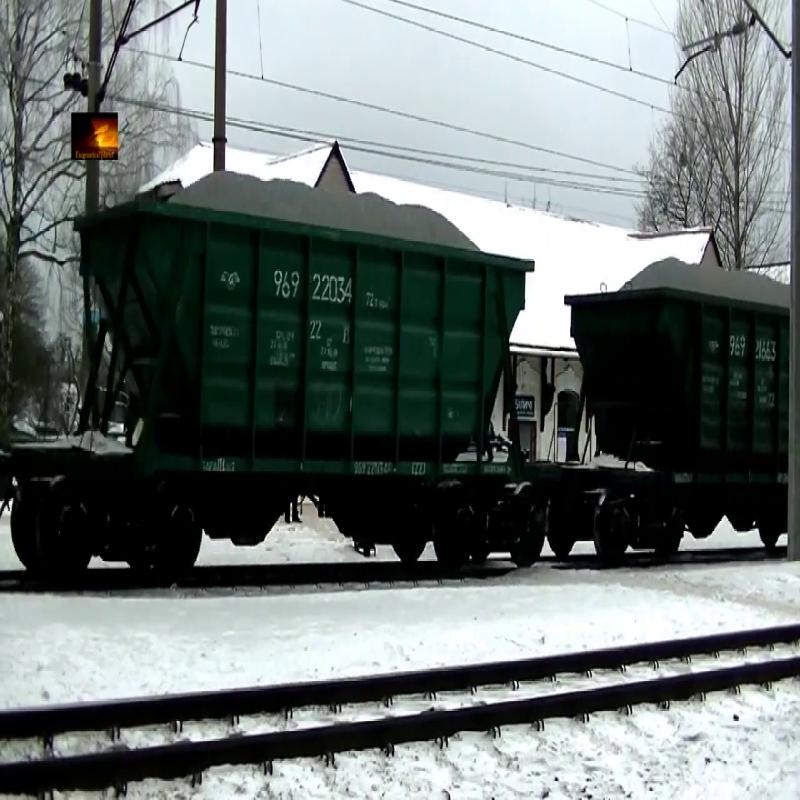train: (32, 158, 535, 576), (563, 259, 787, 570)
